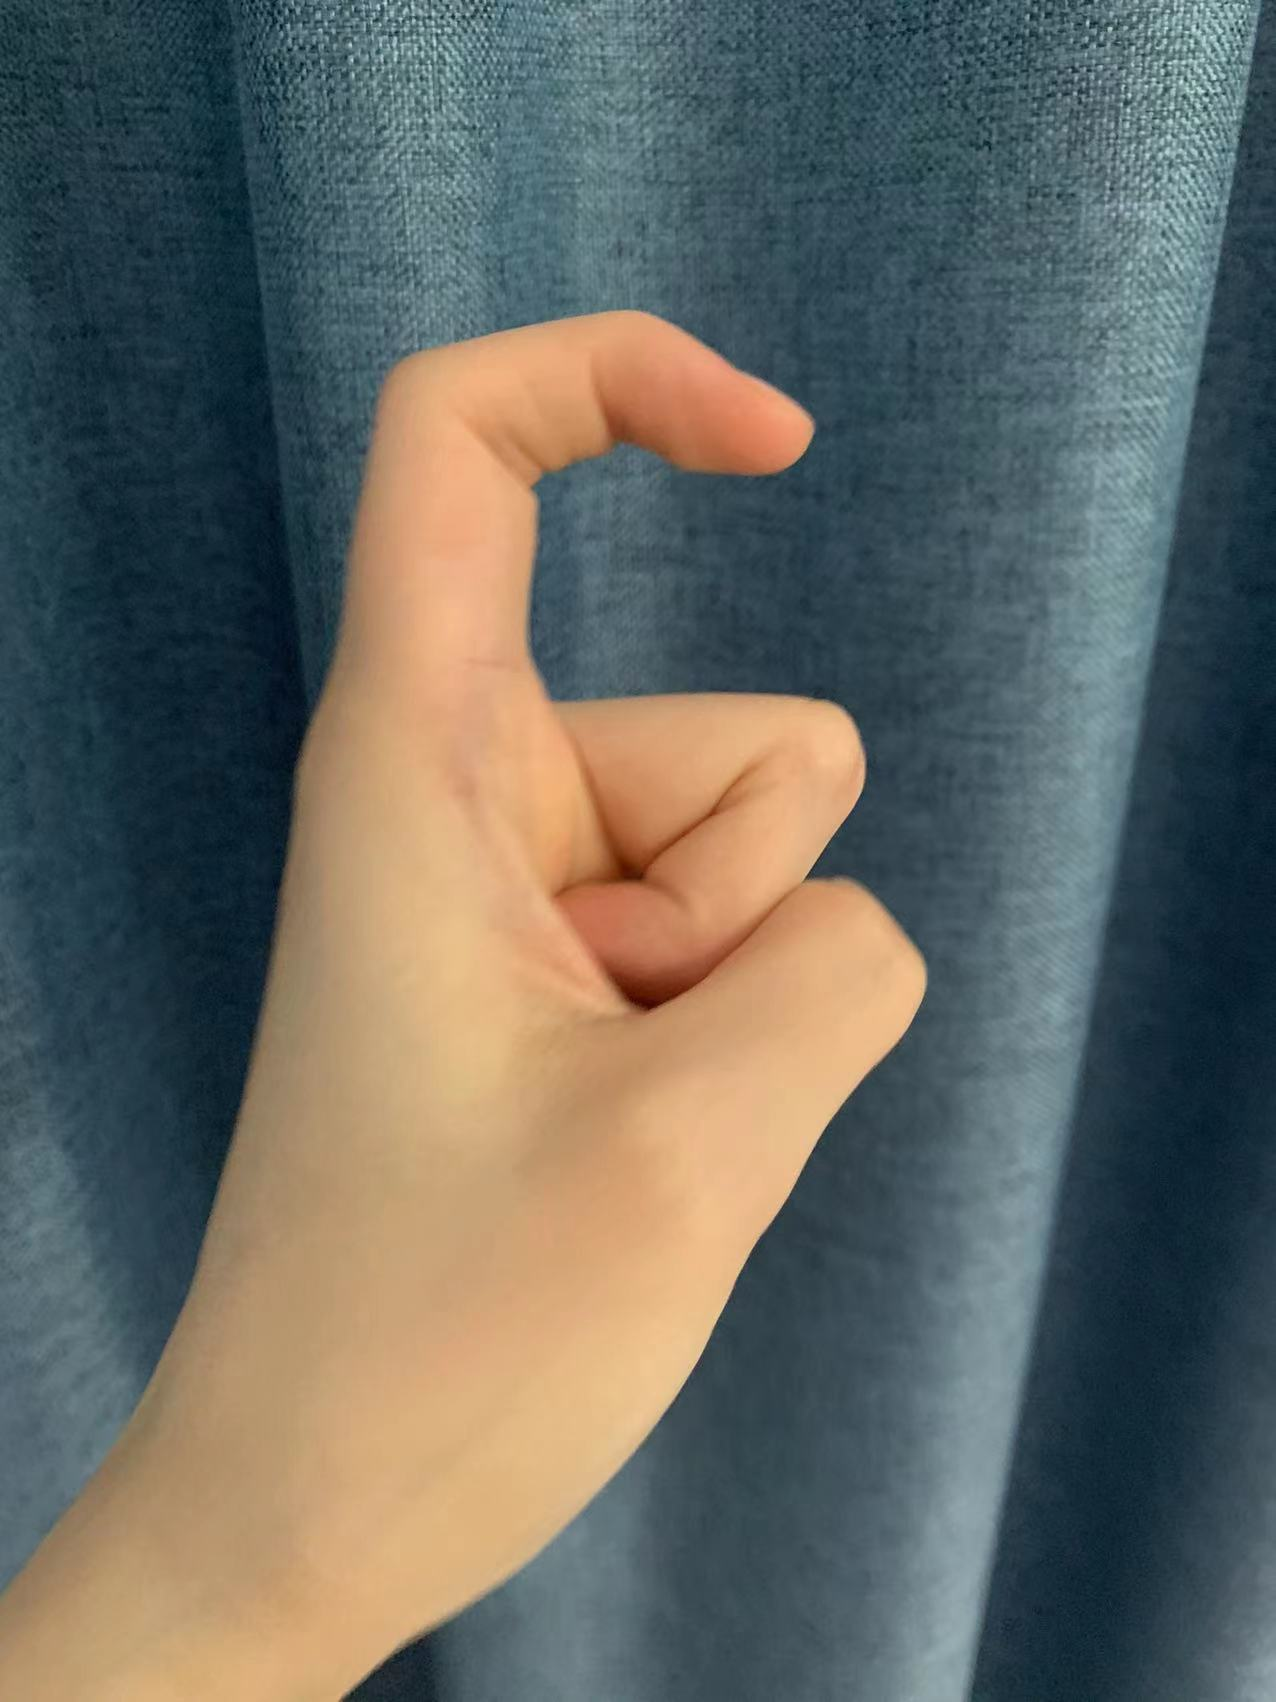anticlockwise: (151, 302, 986, 1418)
